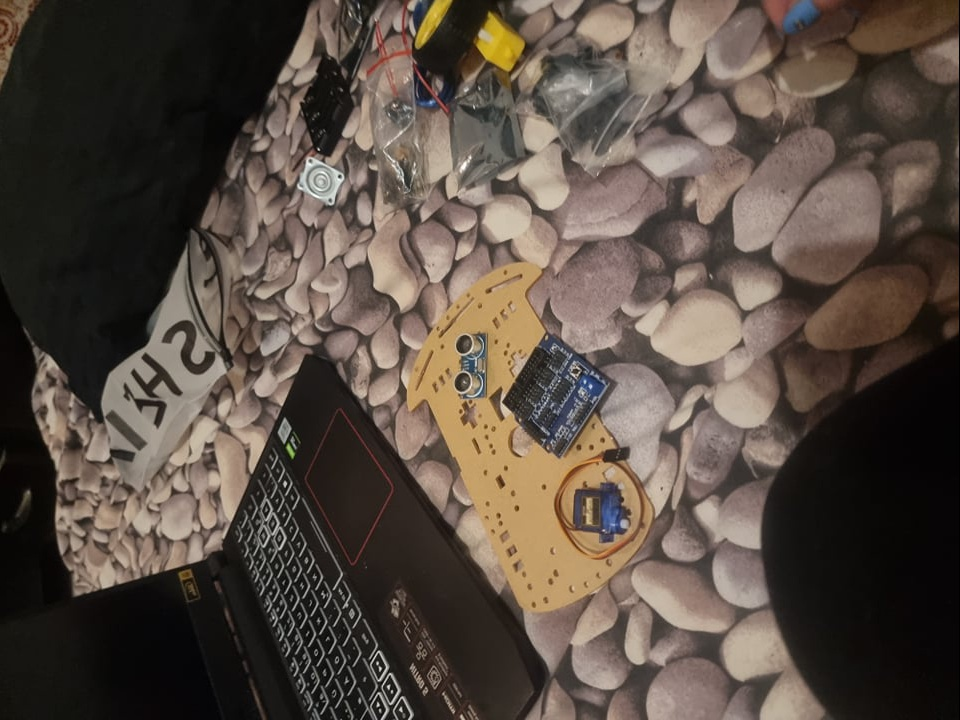5V EXPANSION: (502, 332, 615, 459)
BATTERY BOX: (300, 53, 356, 159)
SENSOR: (453, 330, 489, 399)
